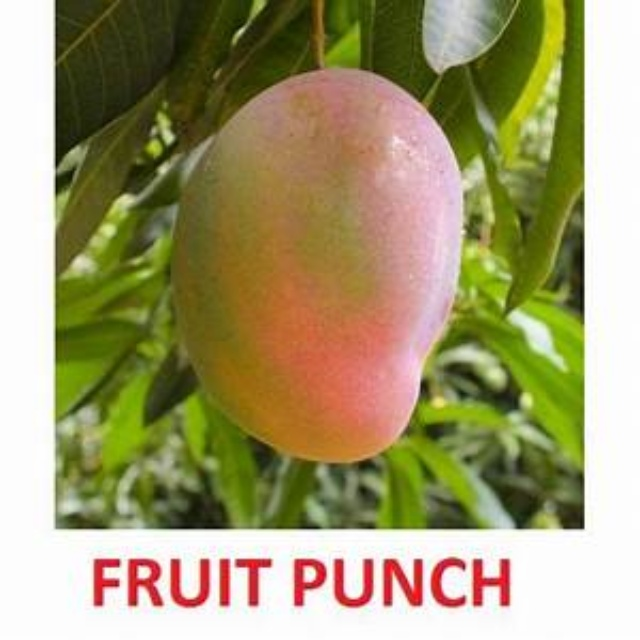mango: (171, 71, 451, 461)
